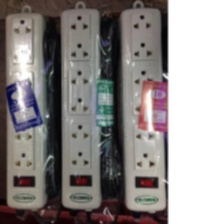three_eye_plug: (114, 5, 166, 215), (1, 7, 48, 212), (57, 6, 103, 213)
